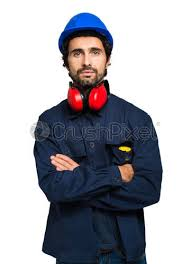Person_wearing_helmet: (57, 11, 112, 61)
